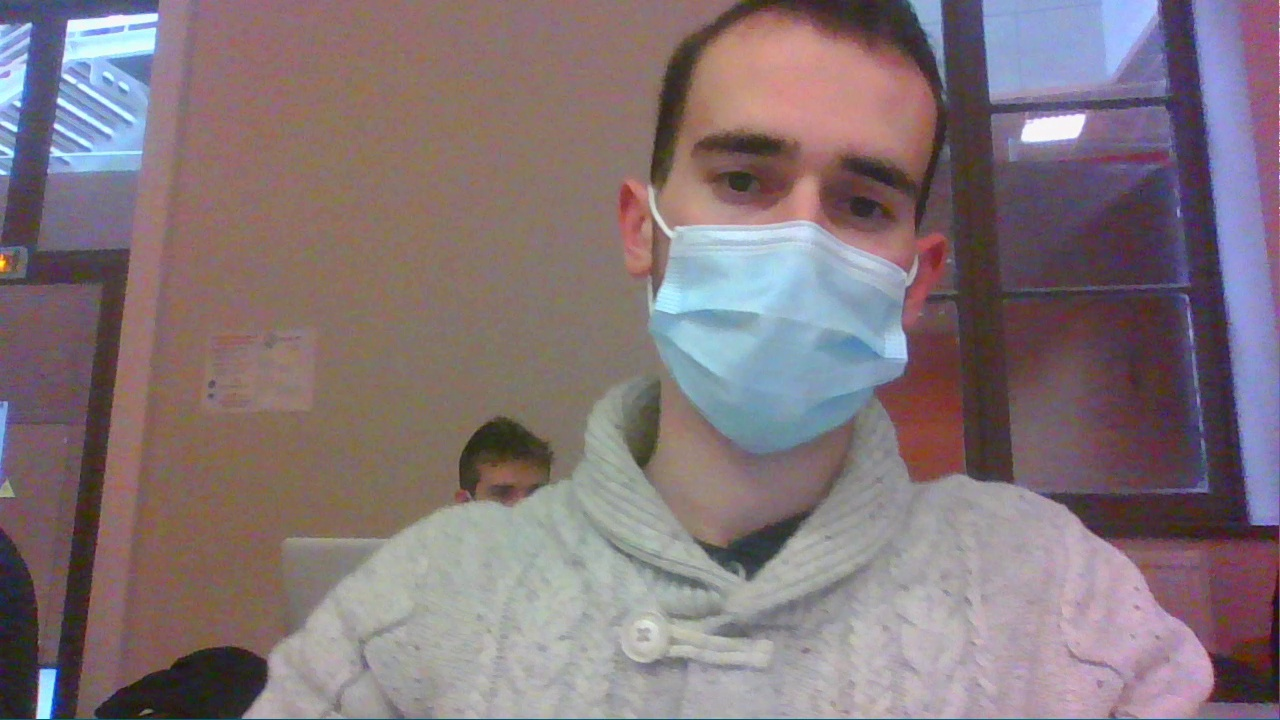mask: (585, 1, 935, 461)
